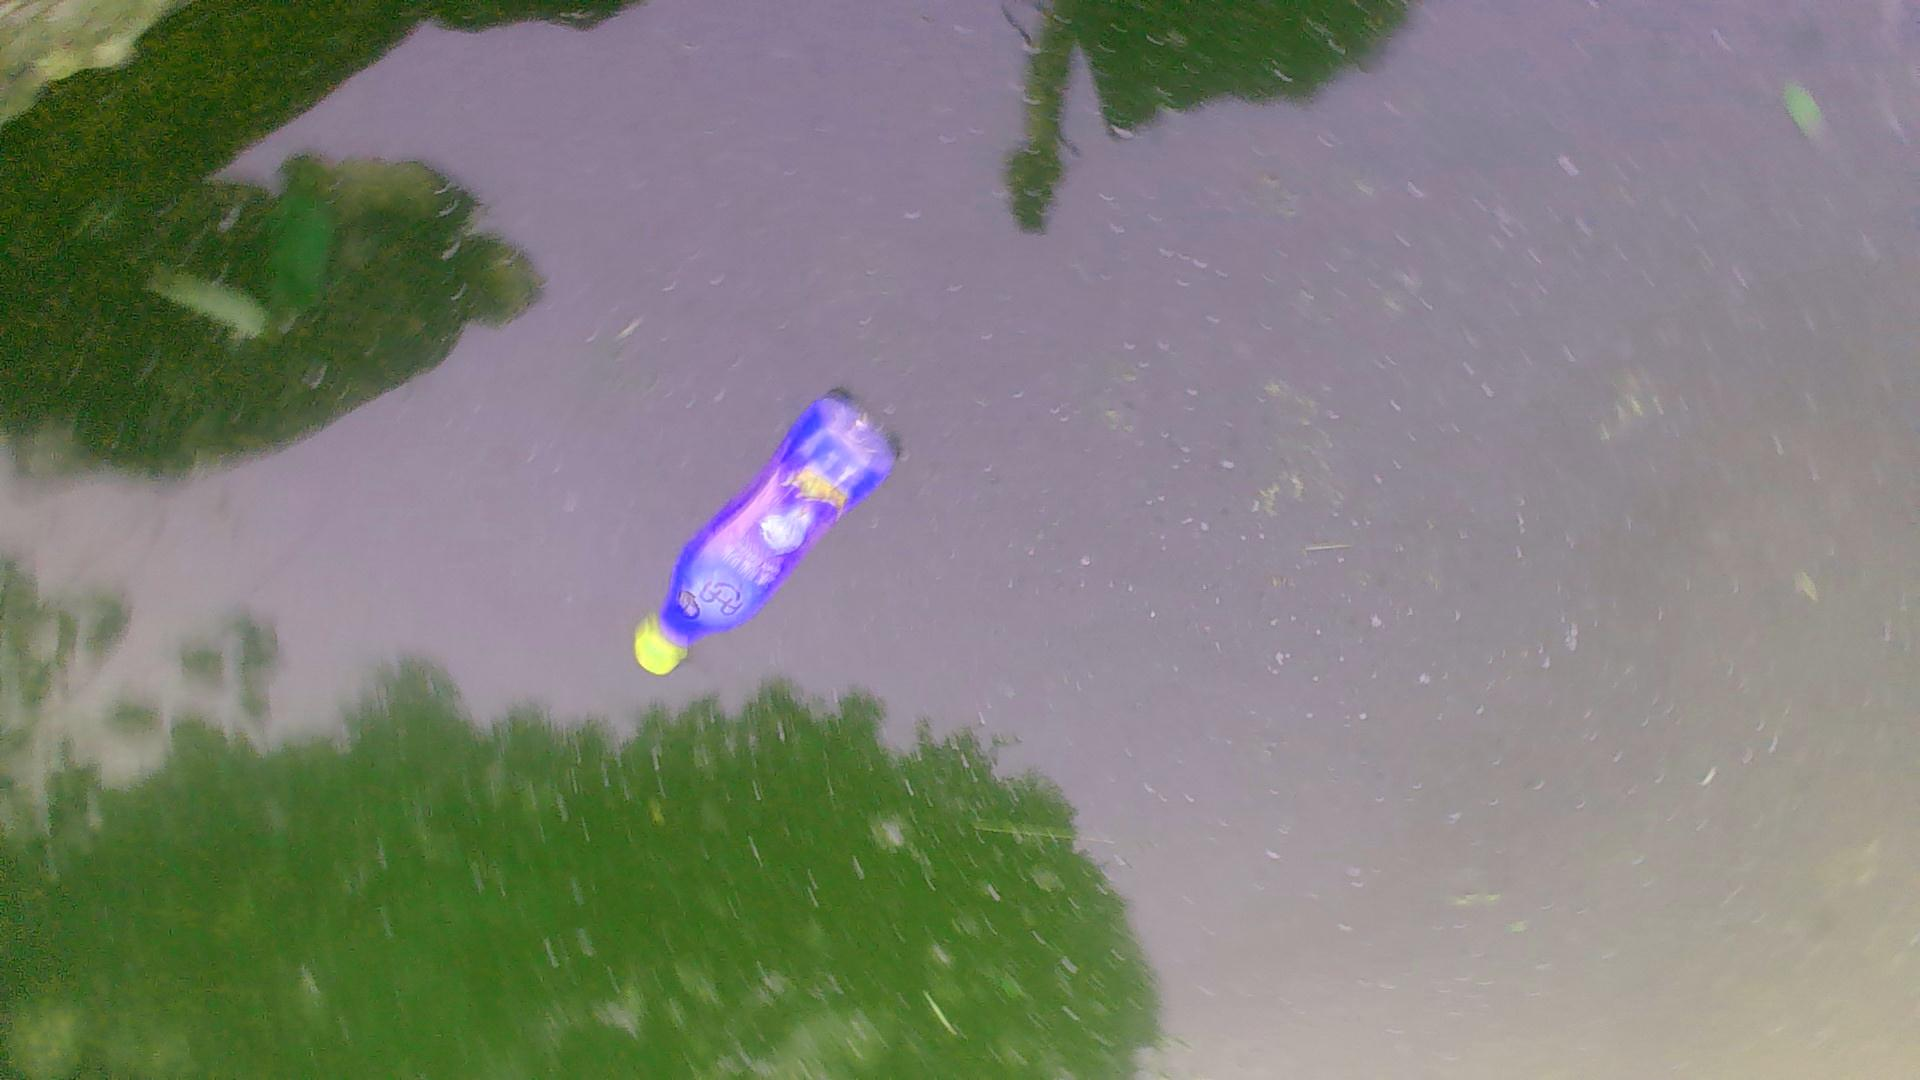Plastic: (632, 388, 913, 690)
